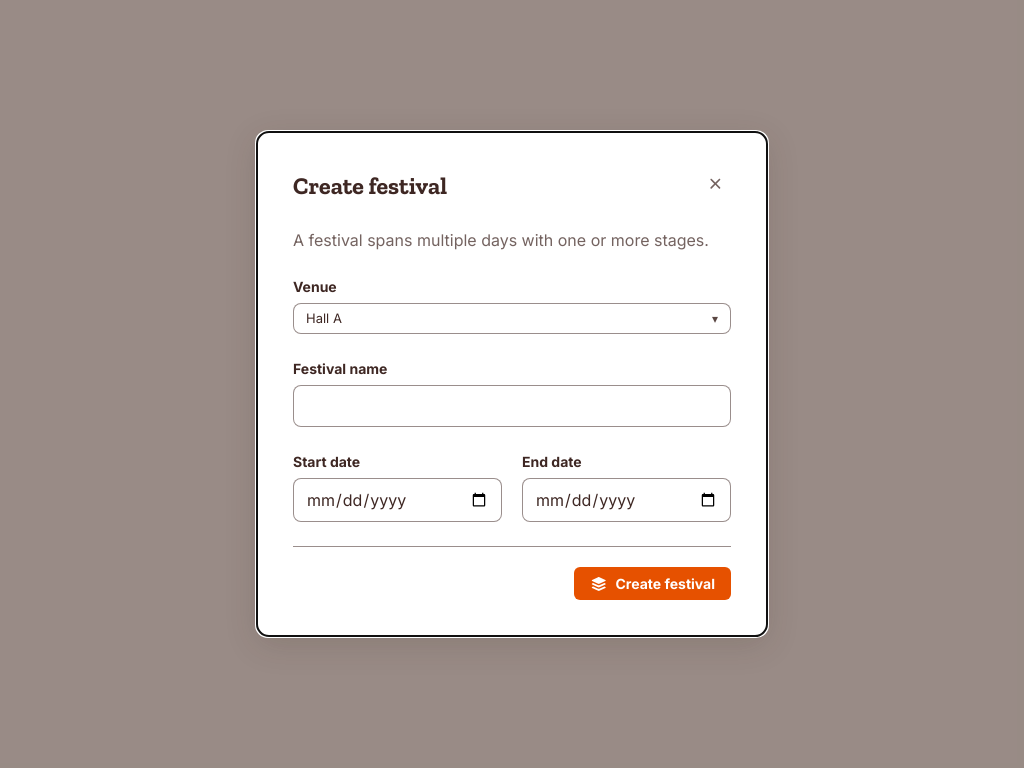
Scenario: FestivalSetupModal › creates the festival at the venue picked from a multi-venue list
Step 1. Click the button with test id "festival-venue-select" → click(324, 318), box top-left (293, 303), bottom-right (731, 334)
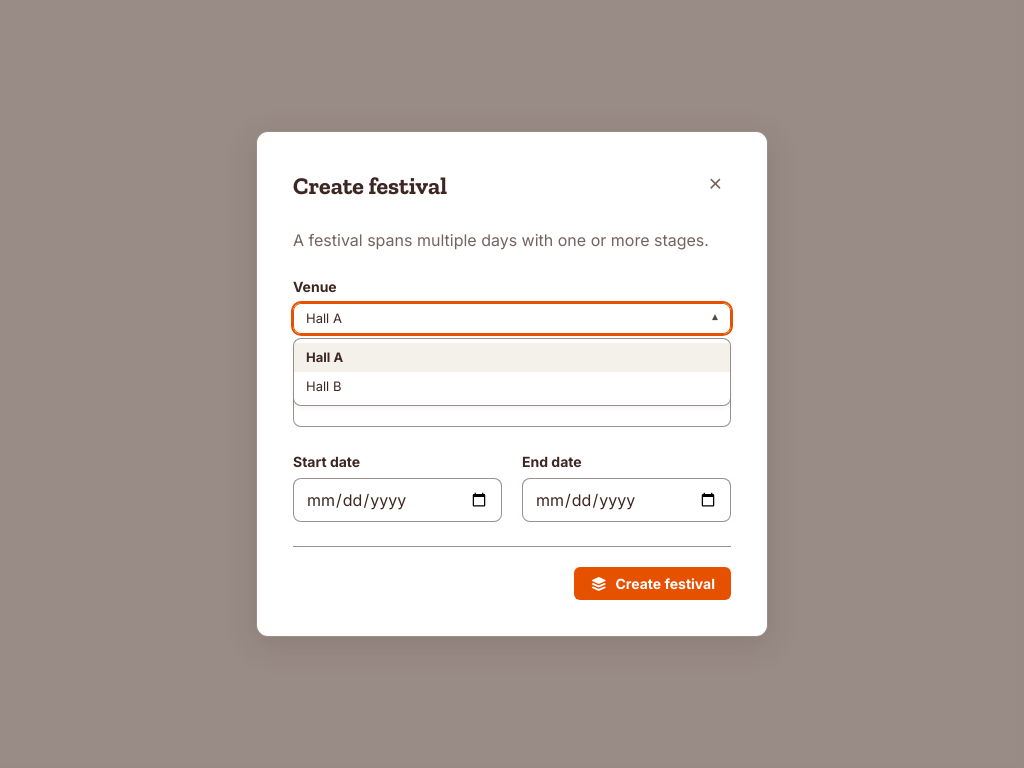
Step 2. Click the option with test id "festival-venue-select-option-venue-2" → click(324, 386), box top-left (294, 372), bottom-right (730, 401)
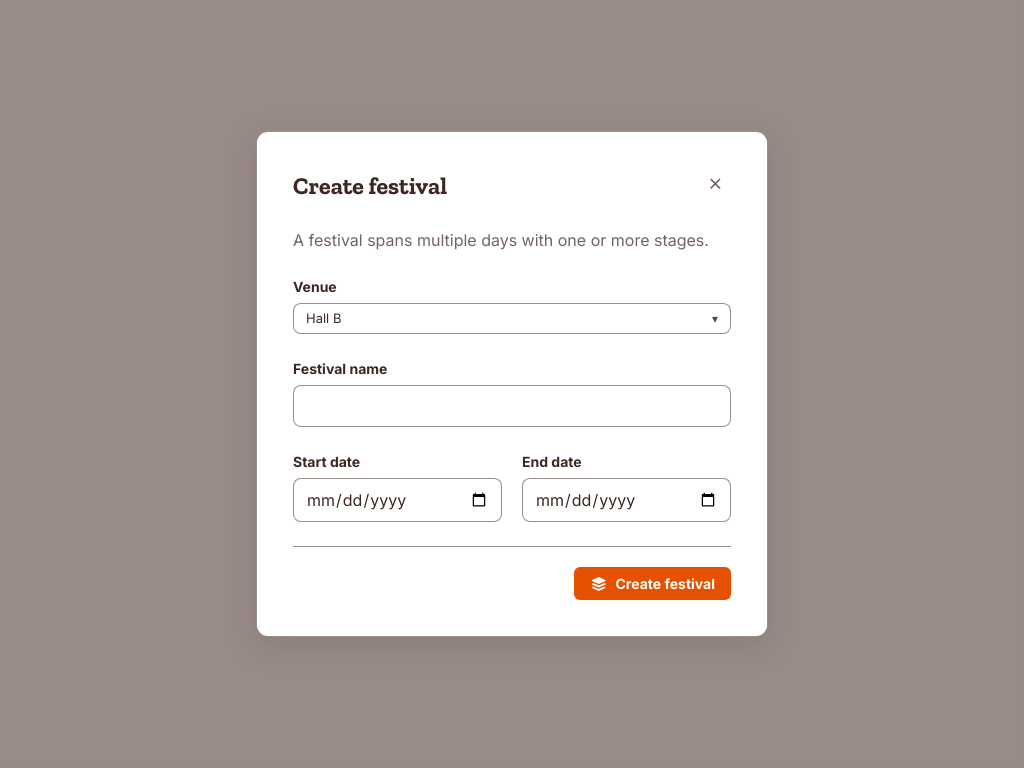
Expected: the button with test id "festival-venue-select" shows "Hall B", top-left (293, 303), bottom-right (731, 334)
